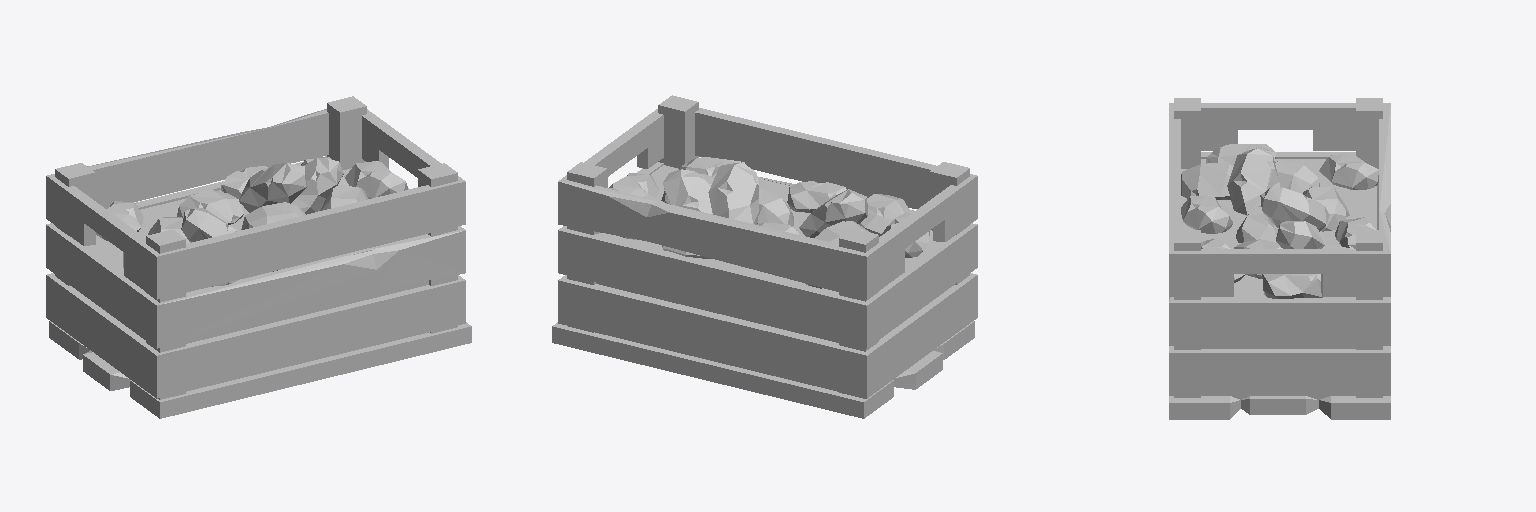
The model's file is SM_Prop_Box_Potato_01.obj.
3 views of the same model, side by side, from view 1: azimuth 30°, elevation 25°; view 2: azimuth 150°, elevation 25°; view 3: azimuth 270°, elevation 25° (orthographic).
Size of the model in its own units: 75.57 by 38.51 by 45.26.